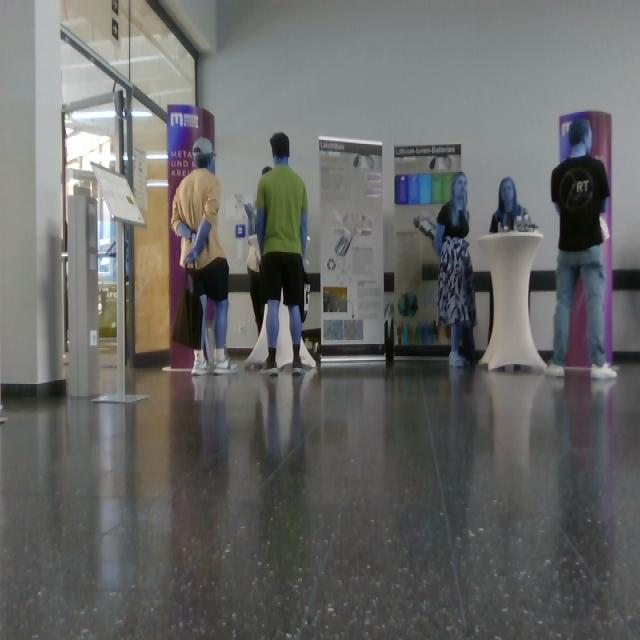door: (319, 137, 386, 360)
light bulb: (333, 212, 373, 257), (414, 214, 437, 236), (335, 234, 353, 257), (430, 156, 452, 172), (353, 155, 374, 171)
person: (545, 118, 618, 381), (171, 137, 238, 376), (256, 132, 309, 376), (434, 172, 477, 368)
tiled floor: (1, 354, 640, 640)
